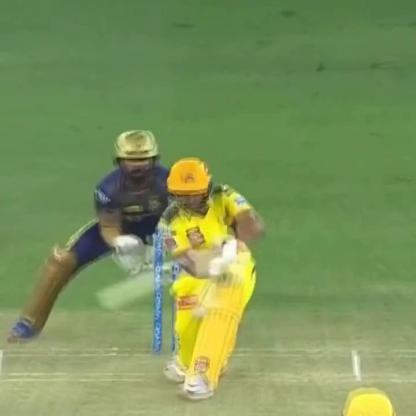ball: (186, 300, 212, 321)
bat: (85, 249, 211, 306)
pitch: (0, 336, 415, 415)
